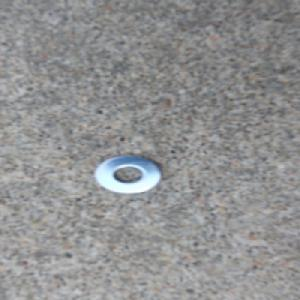Washer: (92, 153, 164, 196)
